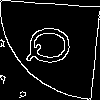Q: (25, 24, 81, 68)
